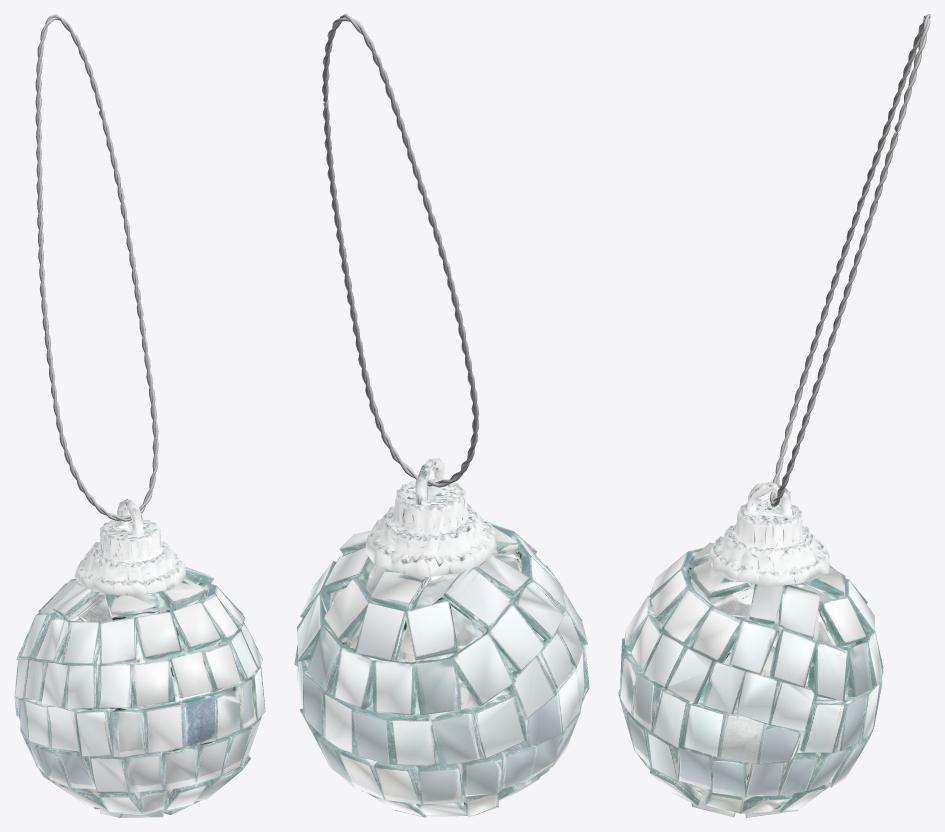
Rendered from Silver_Mirror_Ball.glb.
The picture shows the model from 3 angles, left to right: view 1: azimuth 30°, elevation 25°; view 2: azimuth 150°, elevation 25°; view 3: azimuth 270°, elevation 25°; orthographic projection. The views are drawn at different scales.
Parts seen in each view (by area): view 1: Mesh_0, GN Instance; view 2: Mesh_0, GN Instance; view 3: Mesh_0, GN Instance.
Part boxes in pixels (left/top/right/bottom): Mesh_0: left=14, top=499, right=265, bottom=817; GN Instance: left=35, top=14, right=158, bottom=521; Mesh_0: left=294, top=458, right=589, bottom=817; GN Instance: left=322, top=14, right=478, bottom=487; Mesh_0: left=618, top=481, right=883, bottom=817; GN Instance: left=770, top=14, right=930, bottom=507.
Size of the model in its own units: 0.03 by 0.0976 by 0.0351.
Materials: 2 (1 with a texture image).
